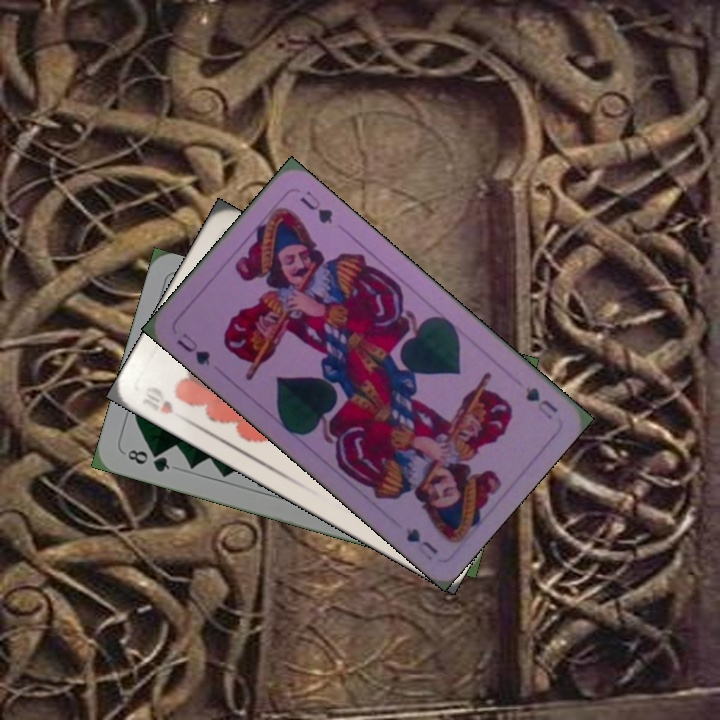G8: (123, 445, 173, 475)
GU: (172, 329, 213, 368), (521, 383, 560, 423)
H10: (137, 389, 176, 417)
